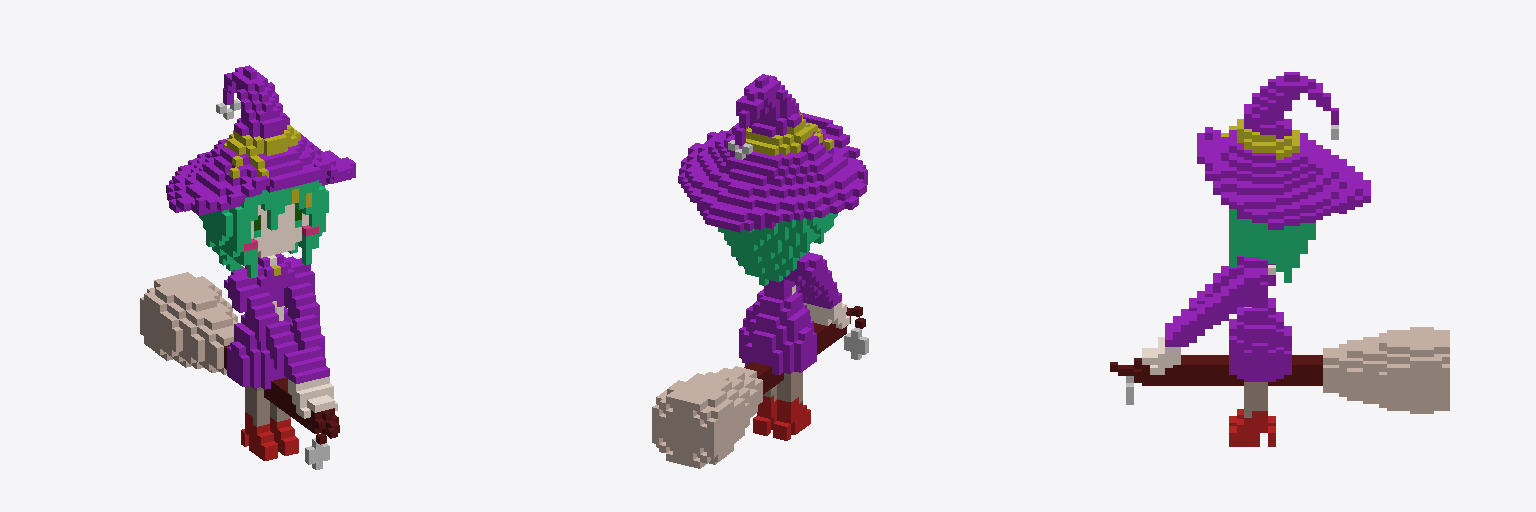
The picture shows the model from 3 angles: view 1: azimuth 30°, elevation 25°; view 2: azimuth 150°, elevation 25°; view 3: azimuth 270°, elevation 25°; orthographic projection.
Visible parts, largest first — view 1: Model; view 2: Model; view 3: Model.
Boxes of the visible parts, x1=… form: Model: x1=140, y1=65, x2=355, y2=469; Model: x1=652, y1=74, x2=868, y2=468; Model: x1=1110, y1=72, x2=1449, y2=446.
Bounding box in the file's own units: 15.69 × 32 × 26.98.
Materials: 1 (1 with a texture image).